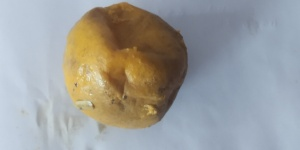BAD: (64, 4, 187, 128)
